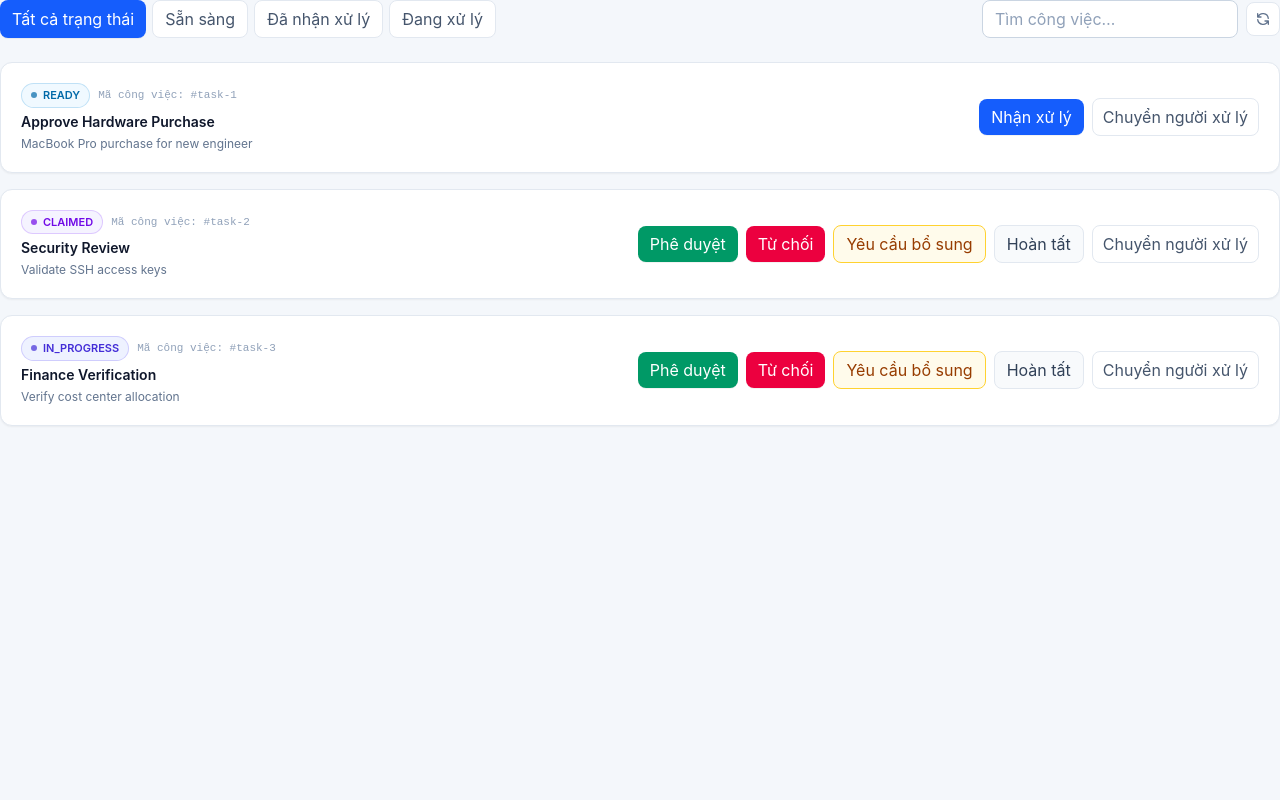
TaskInbox Component › handles 409 CONFLICT gracefully, prompts refresh, and preserves user input
The width and height of the screenshot is (1280, 800).
# Open Reject dialog on task-2
Click the button with test id "action-reject-task-2": (786, 244) [746, 226, 825, 262]
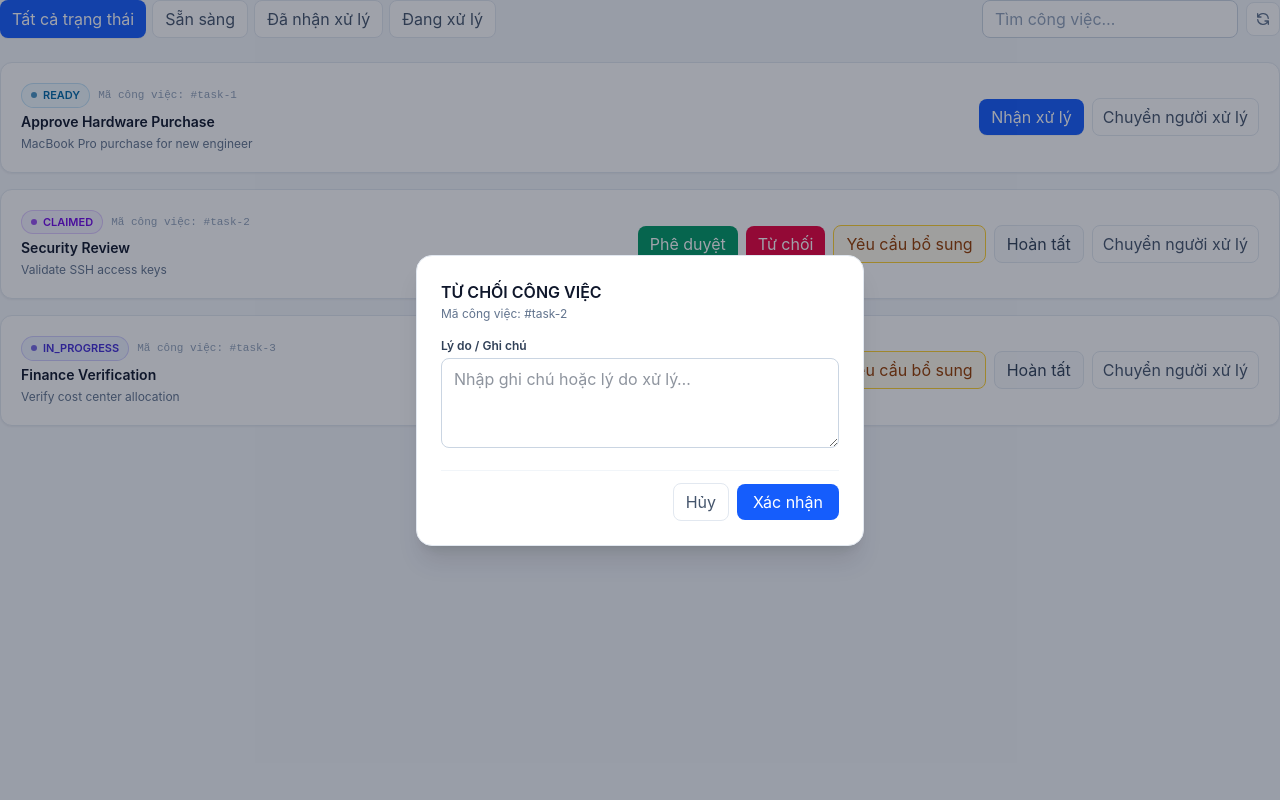
Now the element with test id "task-action-modal" is shown
# Fill comment
In the text box with test id "action-comment-input": (640, 402) [441, 358, 839, 448], type "Detailed rejection reason that took minutes to write"
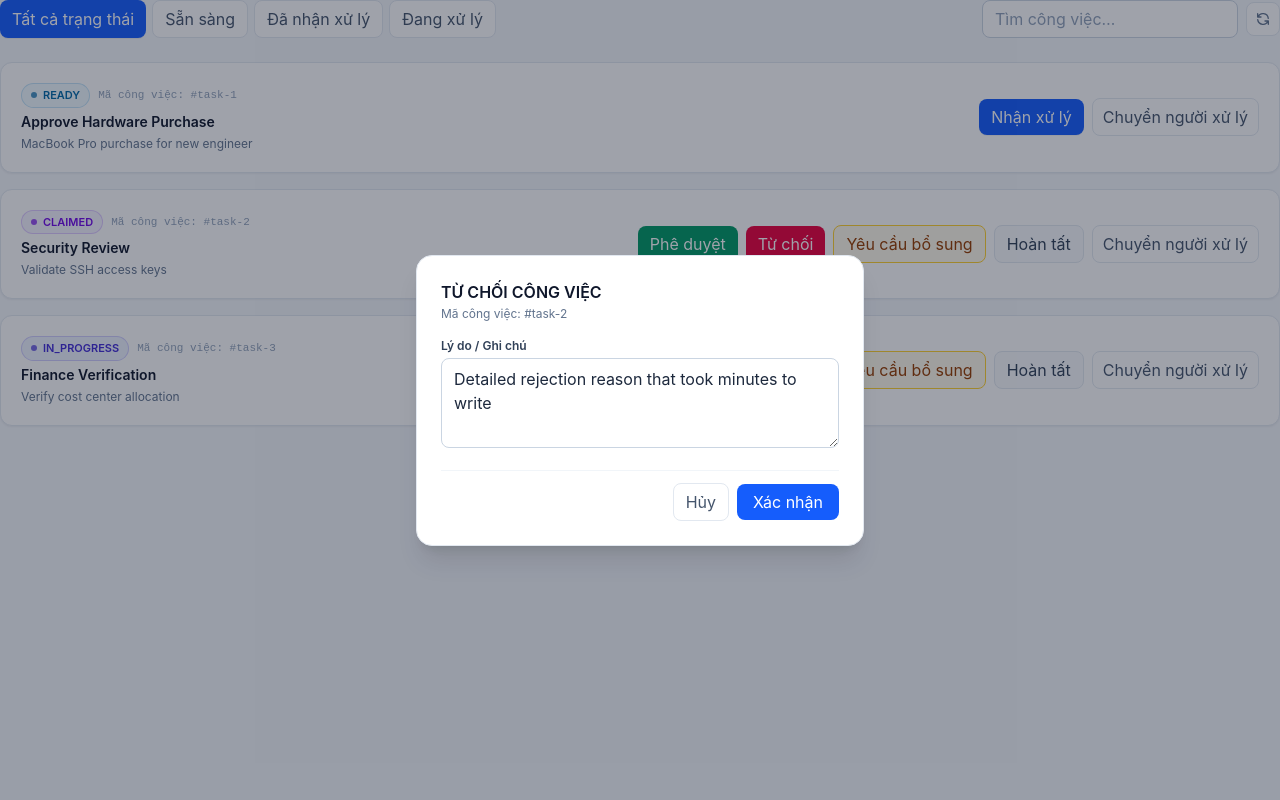
# Confirm action
Click the button with test id "confirm-dialog-button": (788, 502) [737, 484, 839, 520]
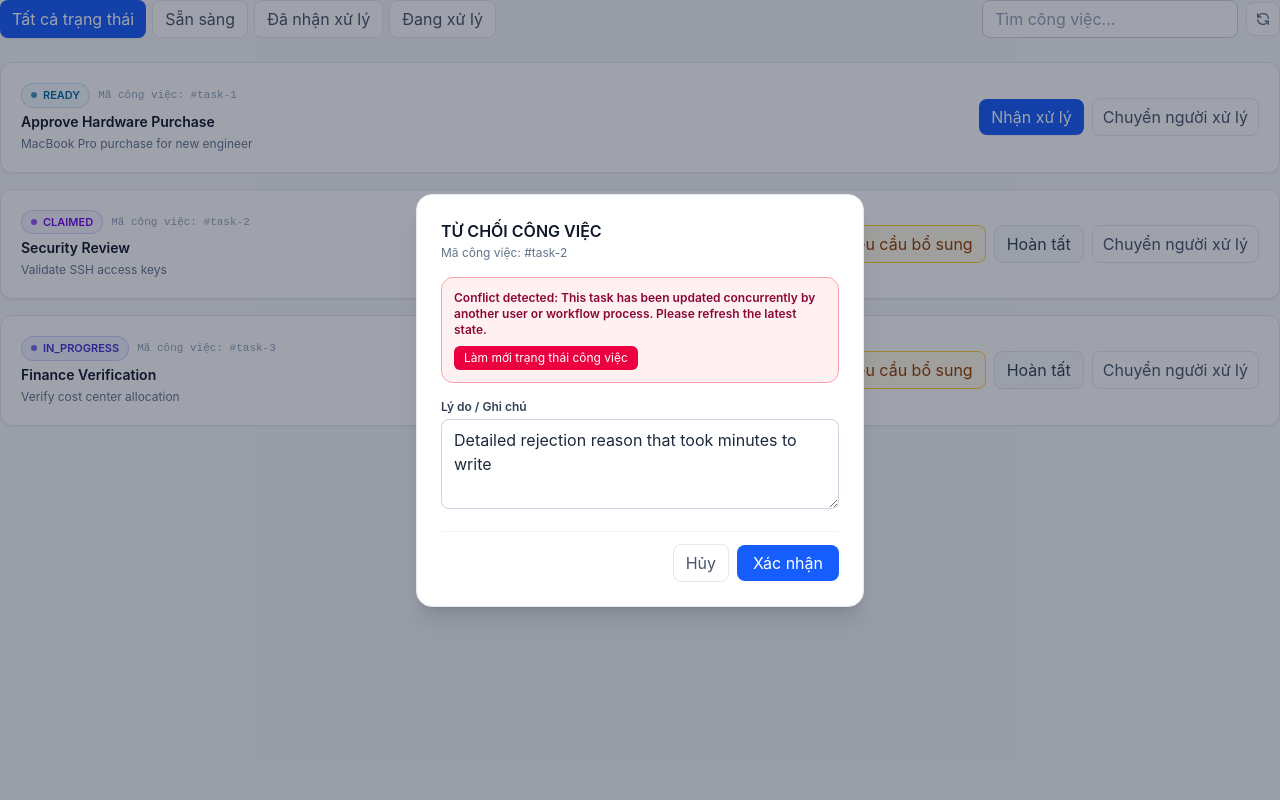
Expected: the element with test id "task-status-task-2" reads "CLAIMED", [43, 214, 93, 228]
Now the element with test id "conflict-error-banner" is shown, box [441, 276, 839, 382]
Now the text "Conflict detected: This task has been updated concurrently" is shown, box [454, 290, 815, 336]
